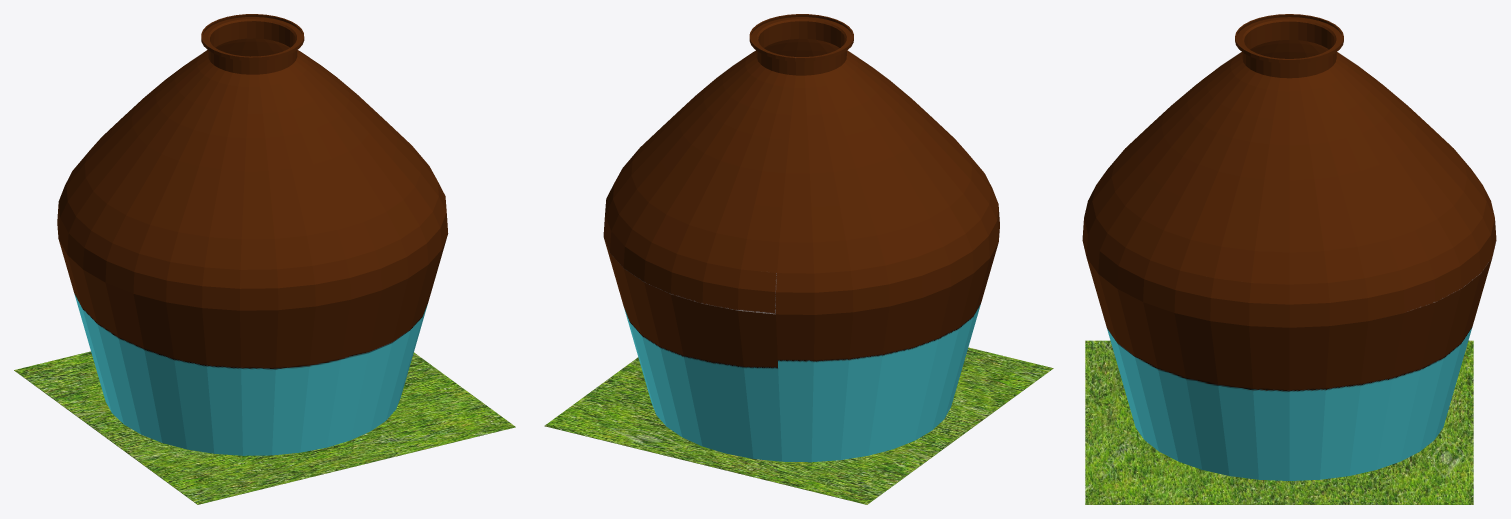
Rendered from matka_2.obj.
The picture shows the model from 3 angles, left to right: view 1: azimuth 30°, elevation 25°; view 2: azimuth 150°, elevation 25°; view 3: azimuth 270°, elevation 25°; orthographic projection. The views are drawn at different scales.
Parts seen in each view (by area): view 1: Circle, Cube; view 2: Circle, Cube; view 3: Circle, Cube.
Part boxes in pixels (<box>): Circle: <box>57,14,448,455</box>; Cube: <box>14,351,515,504</box>; Circle: <box>603,14,999,462</box>; Cube: <box>544,347,1053,504</box>; Circle: <box>1082,14,1496,480</box>; Cube: <box>1085,340,1473,504</box>.
Size of the model in its own units: 0.8469 by 0.8622 by 0.8469.
Materials: 2 (2 with a texture image).
